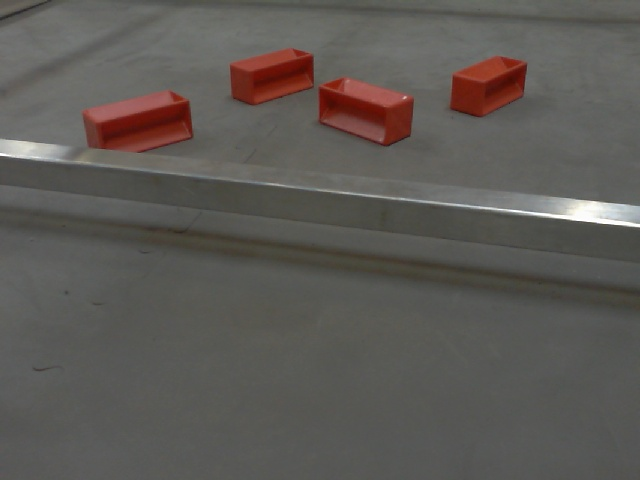RedSample: (85, 83, 197, 151), (317, 75, 417, 149), (227, 43, 317, 109), (447, 49, 527, 121)
